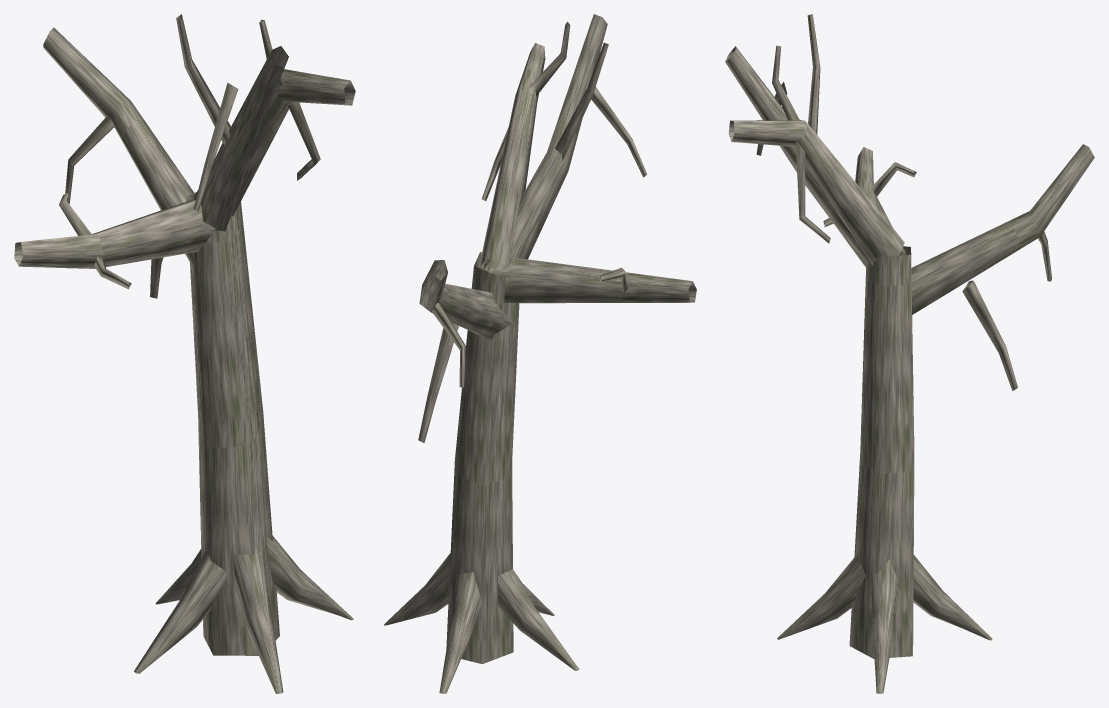
File: DeadTree_3_LOD1.gltf
3 views of the same model, side by side, from view 1: azimuth 30°, elevation 25°; view 2: azimuth 150°, elevation 25°; view 3: azimuth 270°, elevation 25° (orthographic). The views are drawn at different scales.
Parts seen in each view (by area): view 1: DeadTree_3_LOD1; view 2: DeadTree_3_LOD1; view 3: DeadTree_3_LOD1.
Boxes of the visible parts, x1,y1,x2,y2 form: DeadTree_3_LOD1: (14, 14, 355, 693); DeadTree_3_LOD1: (384, 14, 696, 693); DeadTree_3_LOD1: (725, 14, 1094, 693).
Size of the model in its own units: 7.02 by 13.35 by 7.57.
1 material, 1 textured.
